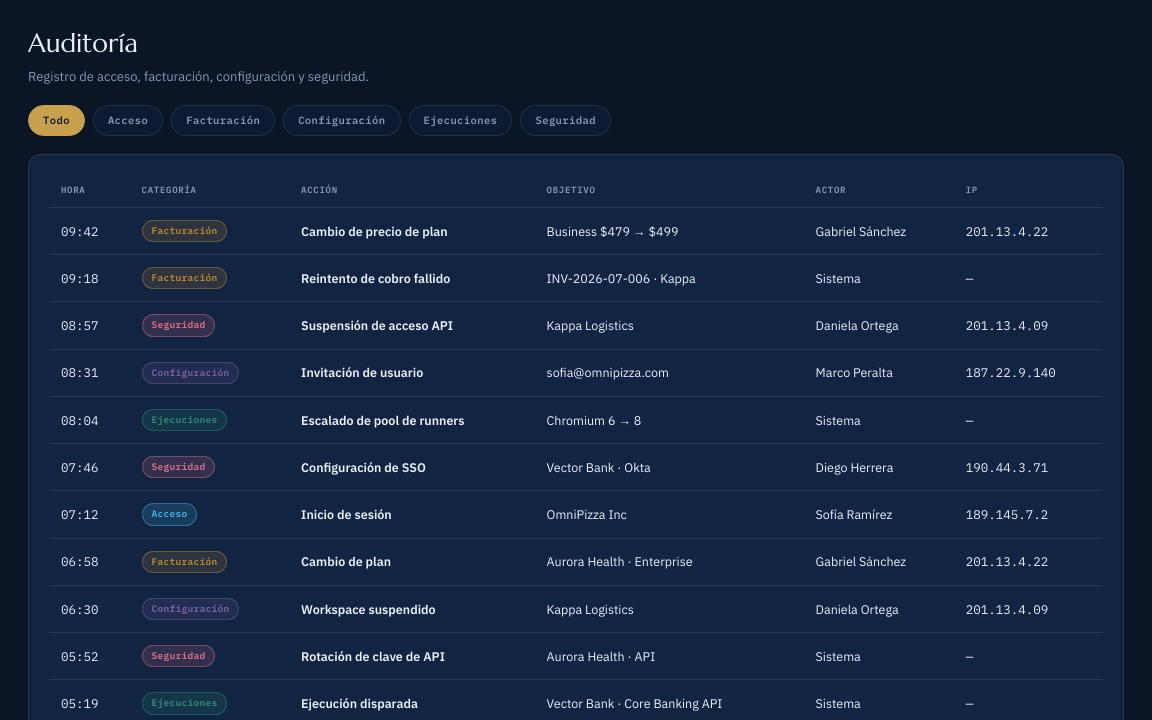
Scenario: platform · Auditoría › narrows the rows to a category in-memory (no reload) when a filter chip is clicked
Expected: the text "Business $479 → $499" is shown, x1=535 y1=207 x2=804 y2=255
Expected: the text "Vector Bank · Okta" is shown, x1=535 y1=444 x2=804 y2=491
Click the "Facturación" (bill) chip.
Click the button "Facturación": (223, 120) x1=171 y1=104 x2=275 y2=136
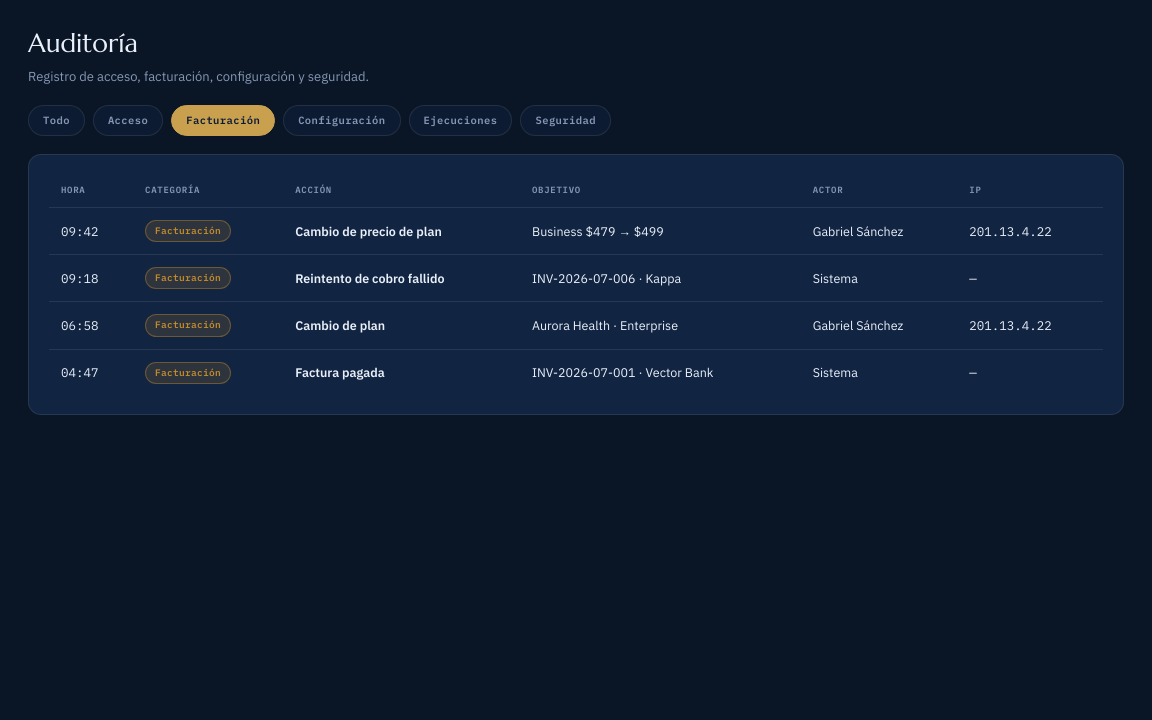
Expected: the text "Business $479 → $499" is shown, x1=520 y1=207 x2=801 y2=255
Now the text "Vector Bank · Okta" is gone
